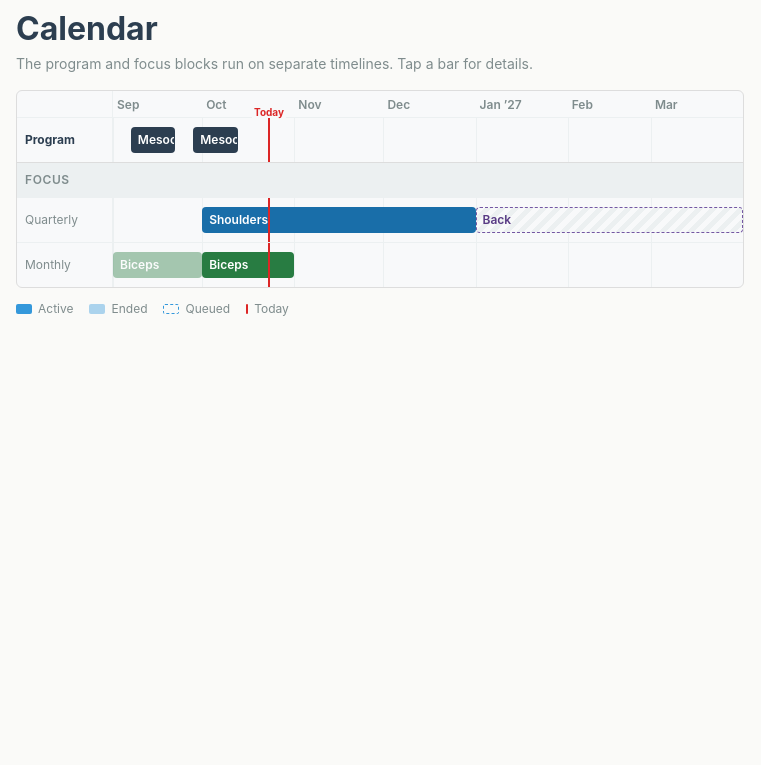
Test: FocusCalendar › hides the renew prompt when the user lets the focus block end
Click the button with aria-label "Biceps focus block, October 2026, active" at x=248, y=265, box [202,252,294,278]
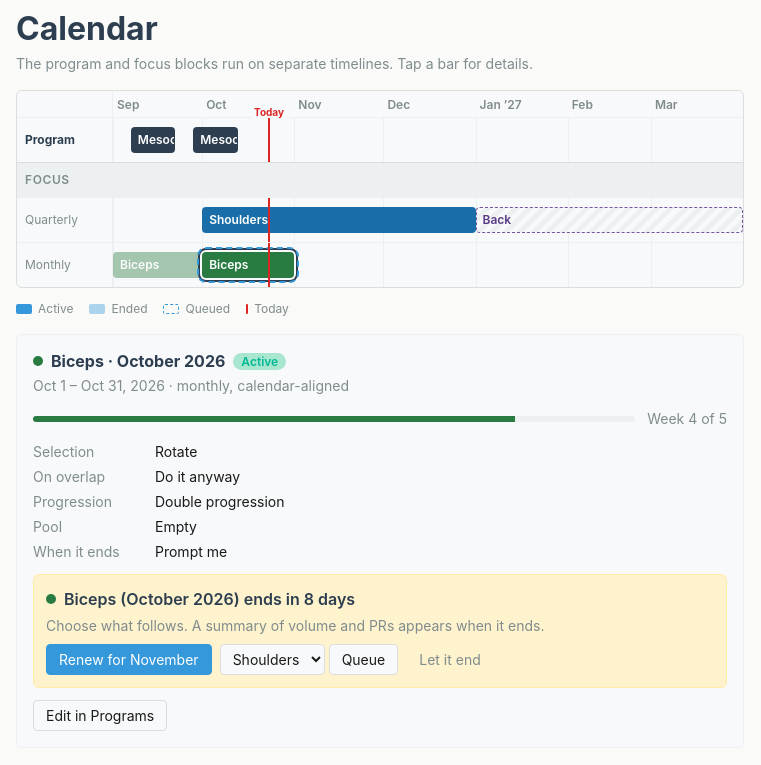
Click the button "Let it end" at x=450, y=660, box [406,644,494,675]
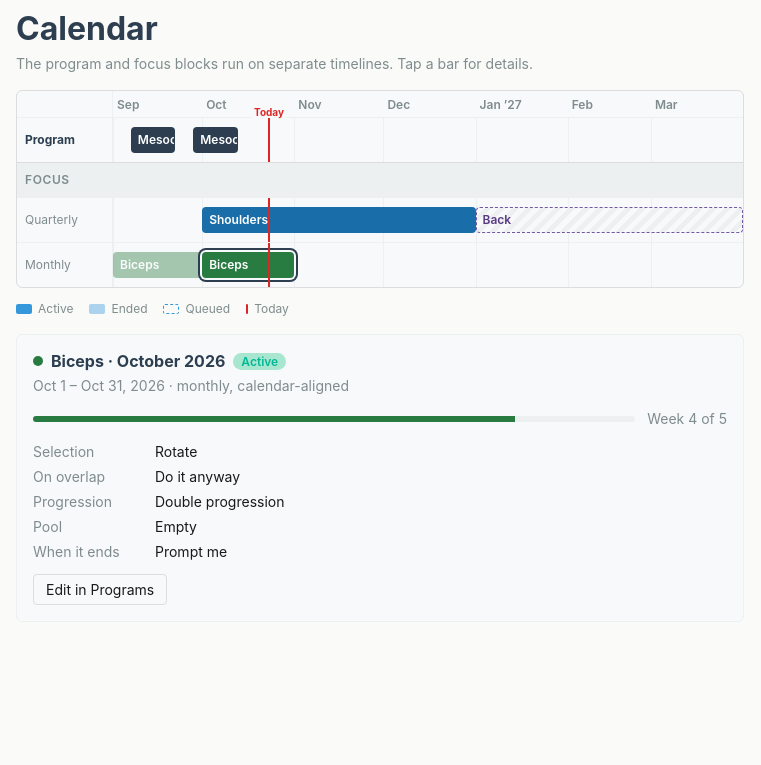
Expected: the text "ends in 8 days" is gone
